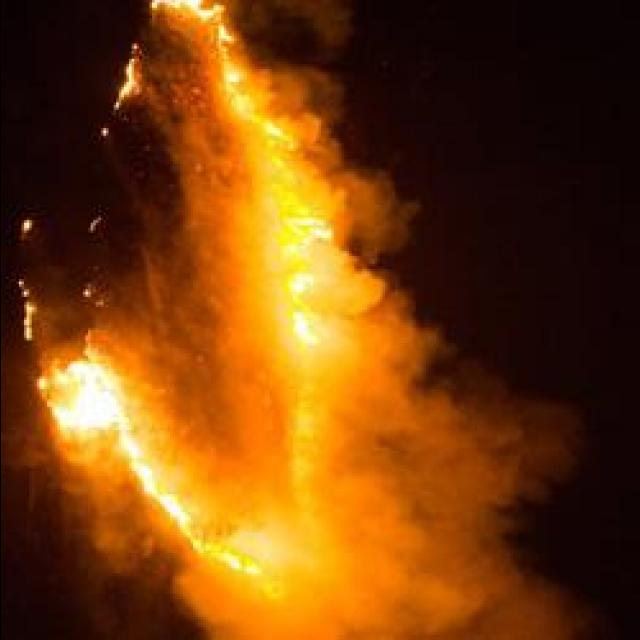fire: (56, 377, 120, 432), (287, 270, 315, 346), (60, 362, 106, 397), (151, 0, 225, 20), (282, 225, 330, 255), (132, 452, 154, 498), (158, 492, 188, 520), (219, 554, 259, 574), (117, 60, 139, 96)
smoke: (412, 482, 535, 640), (366, 360, 513, 472), (452, 414, 578, 518), (430, 571, 606, 640), (184, 376, 284, 478), (290, 577, 448, 640), (340, 170, 420, 274), (336, 454, 406, 564), (373, 304, 451, 392), (248, 0, 362, 52), (63, 446, 115, 544), (171, 111, 224, 206), (198, 194, 262, 272), (170, 582, 245, 640), (292, 66, 346, 136), (111, 329, 177, 379), (346, 265, 388, 338)
